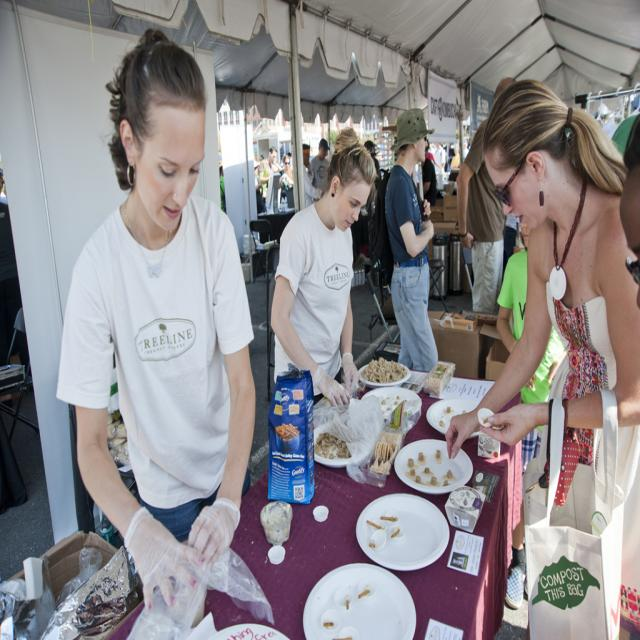non-organic waste: (299, 553, 429, 640), (351, 484, 450, 597), (397, 422, 491, 530), (423, 374, 498, 492)
